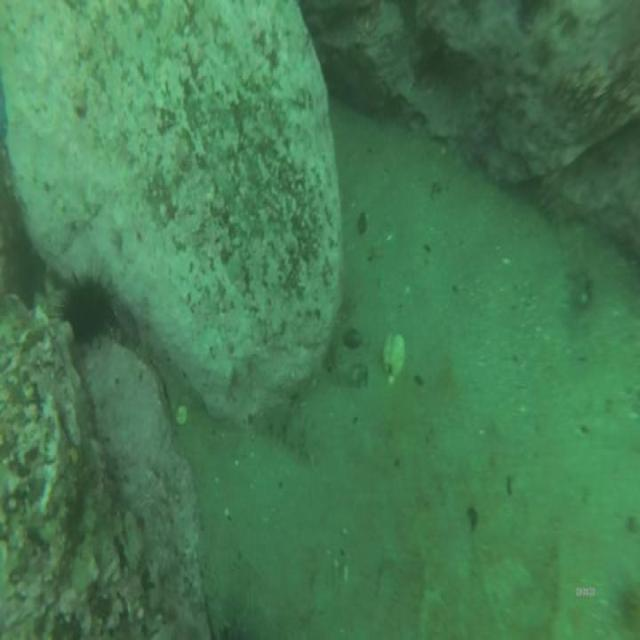echinus: (61, 280, 111, 333)
holothurian: (258, 403, 320, 465)
scallop: (384, 332, 405, 382)
